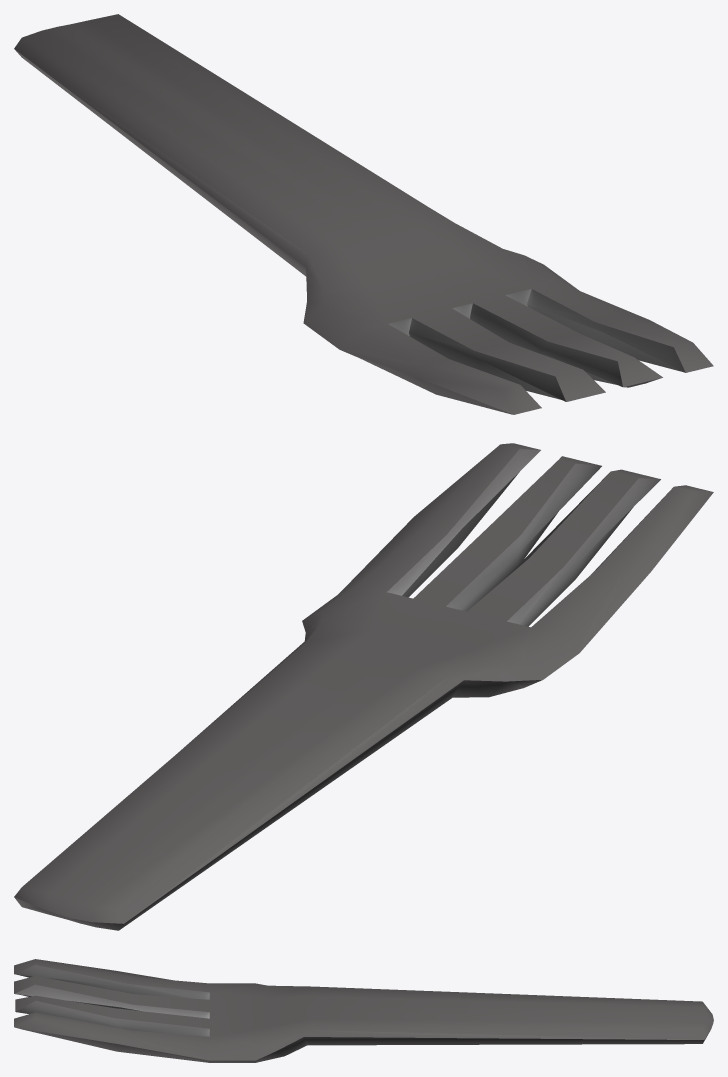
Rendered from fork.FBX.
3 renders of one model, top to bottom at view 1: azimuth 30°, elevation 25°; view 2: azimuth 150°, elevation 25°; view 3: azimuth 270°, elevation 25°, orthographic. The views are drawn at different scales.
Visible parts, largest first — view 1: Box001; view 2: Box001; view 3: Box001.
Boxes of the visible parts, x1,y1,x2,y2 form: Box001: (14, 14, 713, 414); Box001: (14, 443, 713, 930); Box001: (14, 959, 713, 1062).
Bounding box in the file's own units: 31.38 × 8.46 × 125.
1 material, 1 textured.
